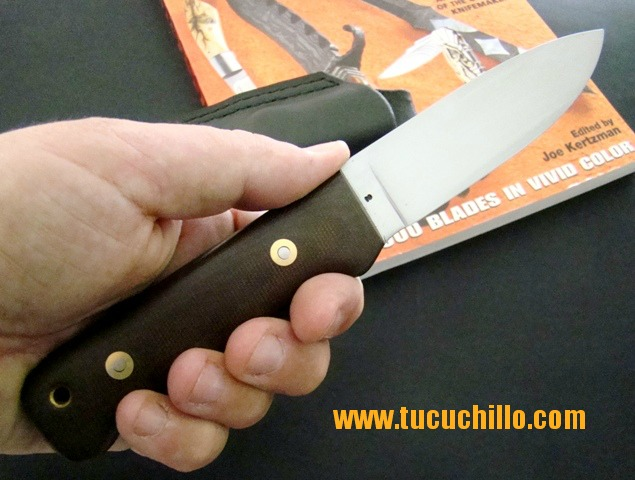knife: (16, 23, 612, 465)
